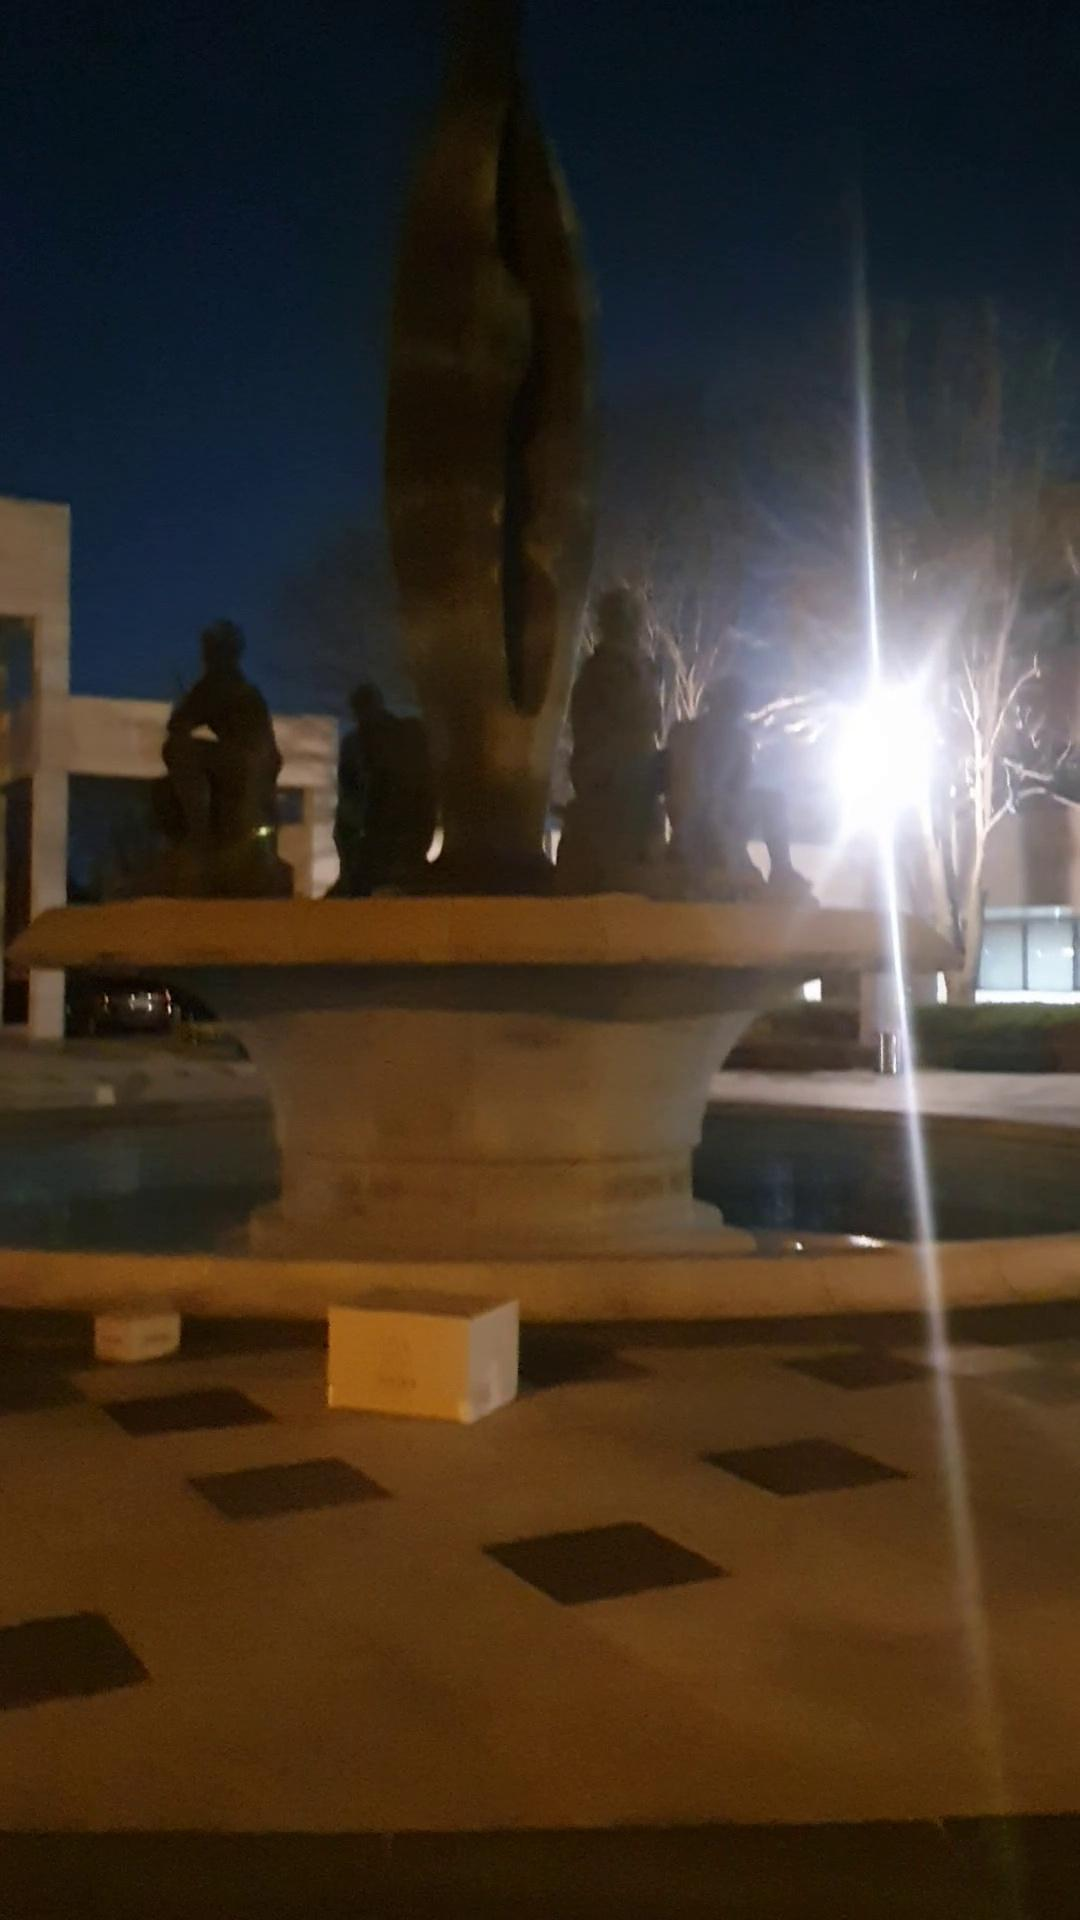Box: (318, 1275, 535, 1435), (86, 1300, 200, 1367)
